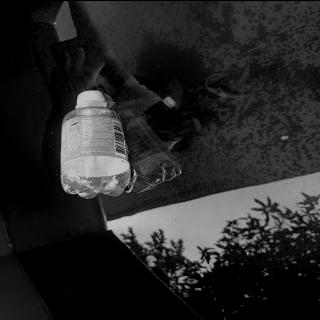bottle: (60, 89, 133, 198)
